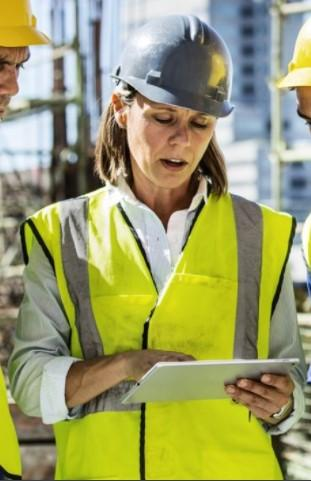hat: (104, 2, 275, 196), (1, 1, 60, 155), (266, 16, 311, 185)
vest: (17, 187, 306, 481), (1, 174, 40, 481)
